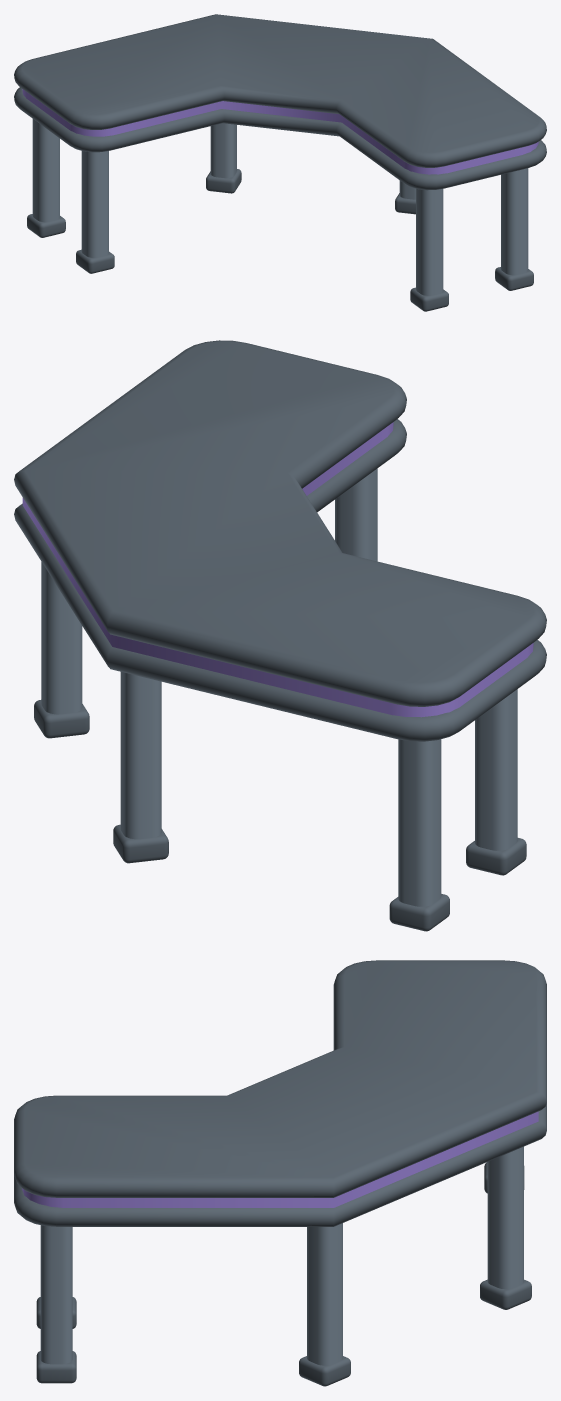
File: Corner_Table.fbx
3 renders of one model, top to bottom at view 1: azimuth 30°, elevation 25°; view 2: azimuth 150°, elevation 25°; view 3: azimuth 270°, elevation 25°, orthographic. The views are drawn at different scales.
Parts seen in each view (by area): view 1: Corner Table; view 2: Corner Table; view 3: Corner Table.
Part boxes in pixels (bbox=[...]): Corner Table: bbox=[14, 14, 546, 311]; Corner Table: bbox=[14, 340, 546, 931]; Corner Table: bbox=[14, 960, 546, 1386].
Bounding box in the file's own units: 250 × 110 × 250.
